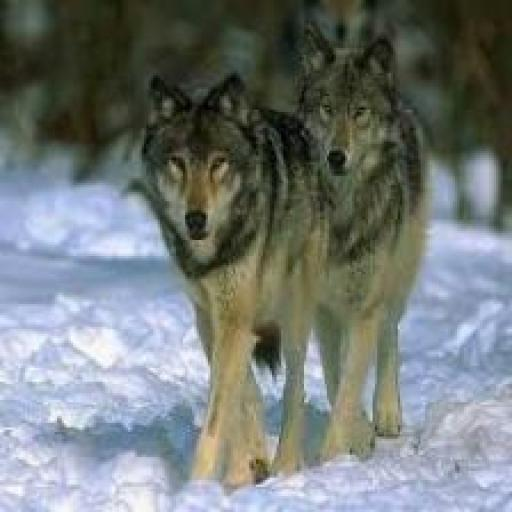wolf: (121, 52, 327, 503), (277, 7, 433, 484)
